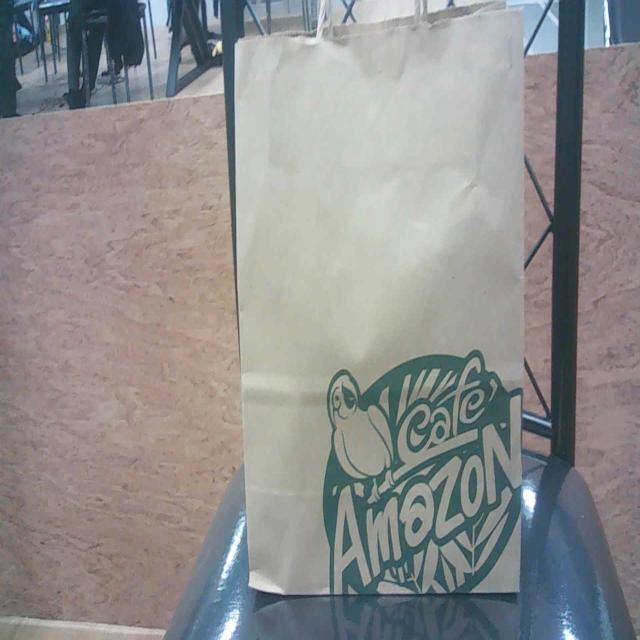bag: (239, 26, 527, 608)
